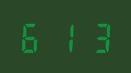one: (50, 20, 80, 53)
six: (18, 20, 48, 53)
three: (81, 20, 111, 53)
